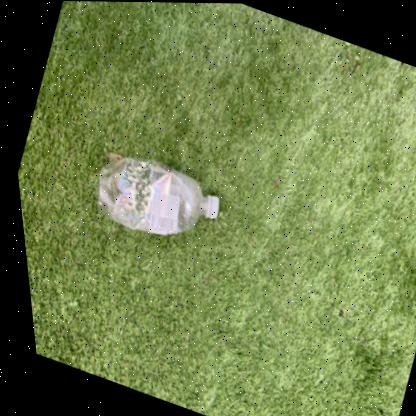Plastic: (92, 151, 213, 233)
